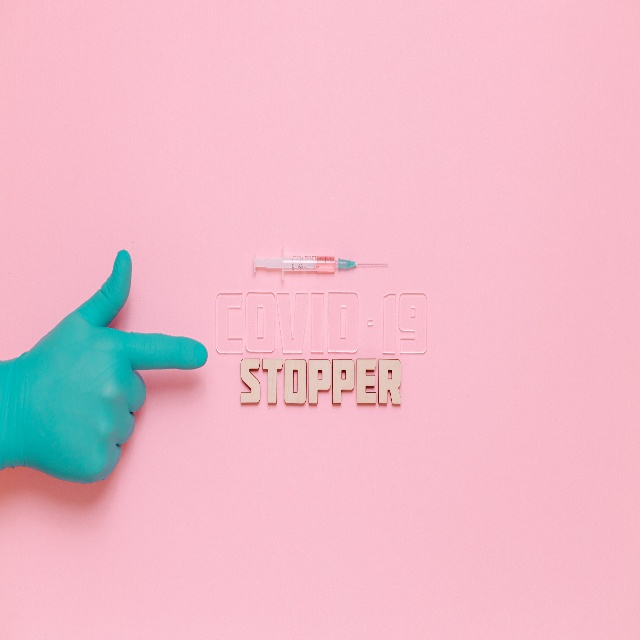Guantes: (0, 249, 208, 484)
